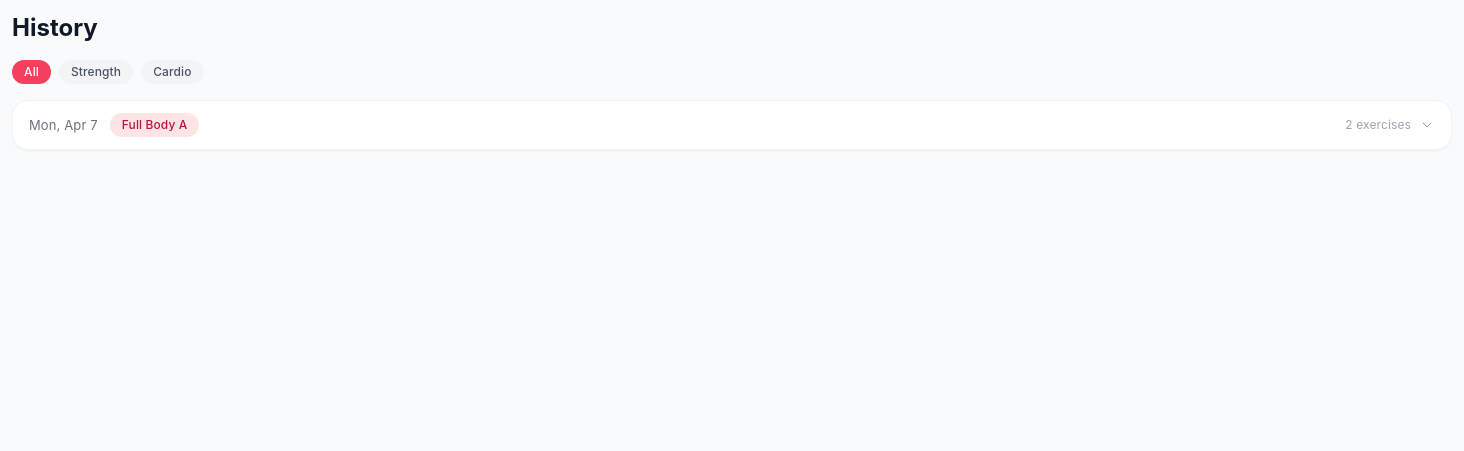
History page › clicking again collapses it
This screenshot has width=1464, height=451.
Step 1. Click the button with test id "session-header" → (63, 125), box [13,101,1451,149]
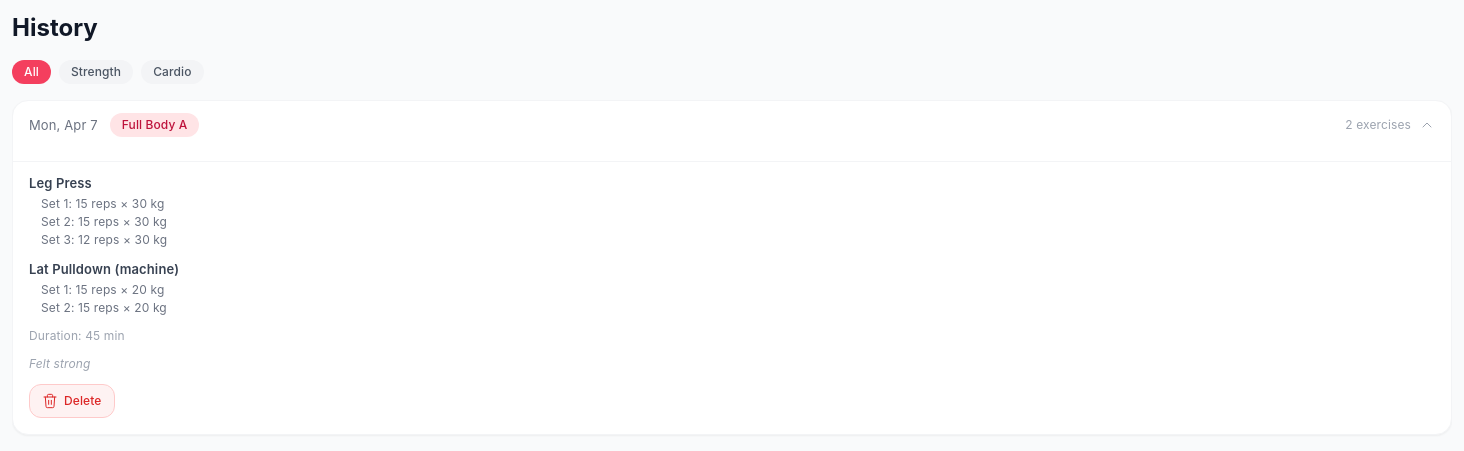
Check: the element with test id "session-detail" is shown, box [13,161,1451,434]
Step 2. Click the button with test id "session-header" → (63, 125), box [13,101,1451,149]
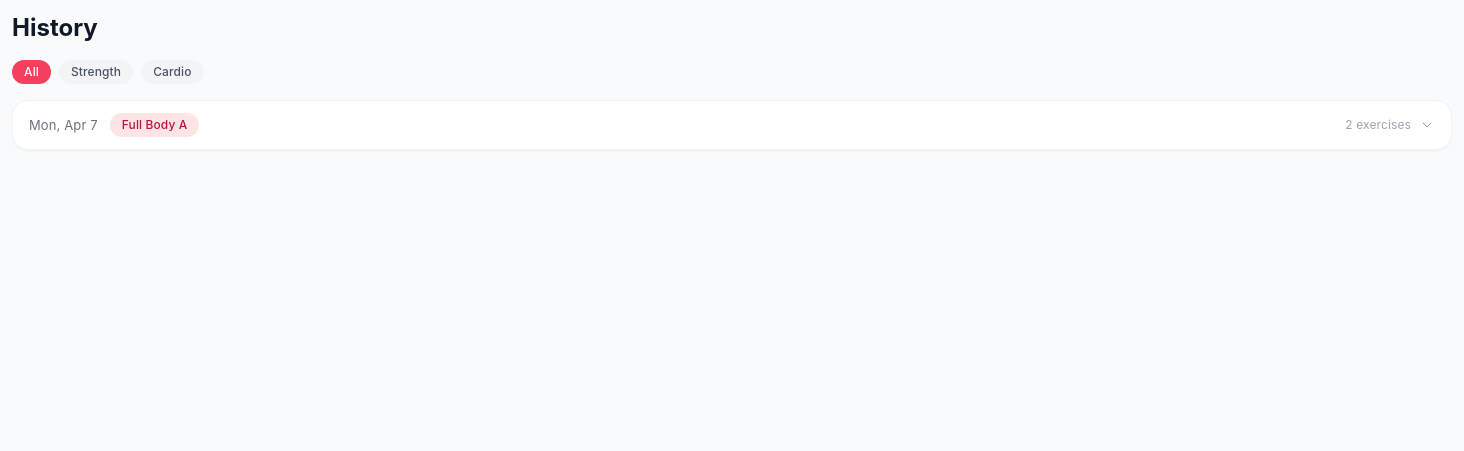
Check: the element with test id "session-detail" is gone
